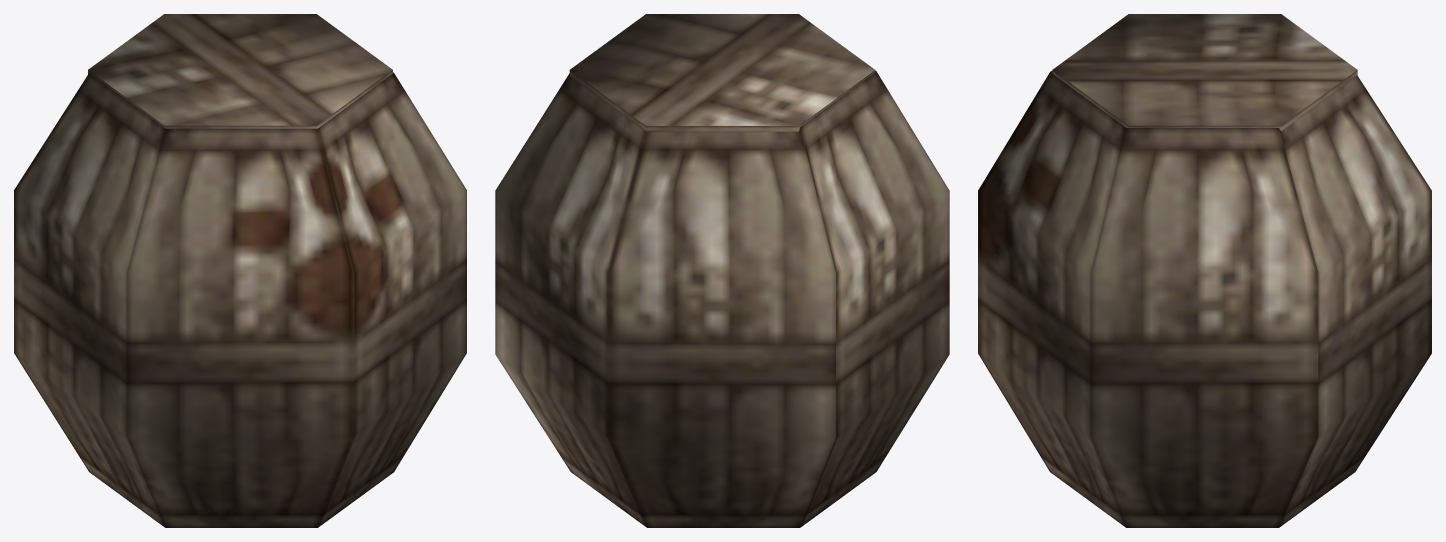
The model's file is barrel.obj.
The picture shows the model from 3 angles, left to right: view 1: azimuth 30°, elevation 25°; view 2: azimuth 150°, elevation 25°; view 3: azimuth 270°, elevation 25°; orthographic projection.
Parts seen in each view (by area): view 1: npc_02-0001-6; view 2: npc_02-0001-6; view 3: npc_02-0001-6.
Part boxes in pixels (box(x1,y1,x2,y2)): npc_02-0001-6: box(14, 14, 466, 527); npc_02-0001-6: box(495, 14, 949, 527); npc_02-0001-6: box(978, 14, 1431, 527).
Bounding box in the file's own units: 74.6 × 84.26 × 86.14.
